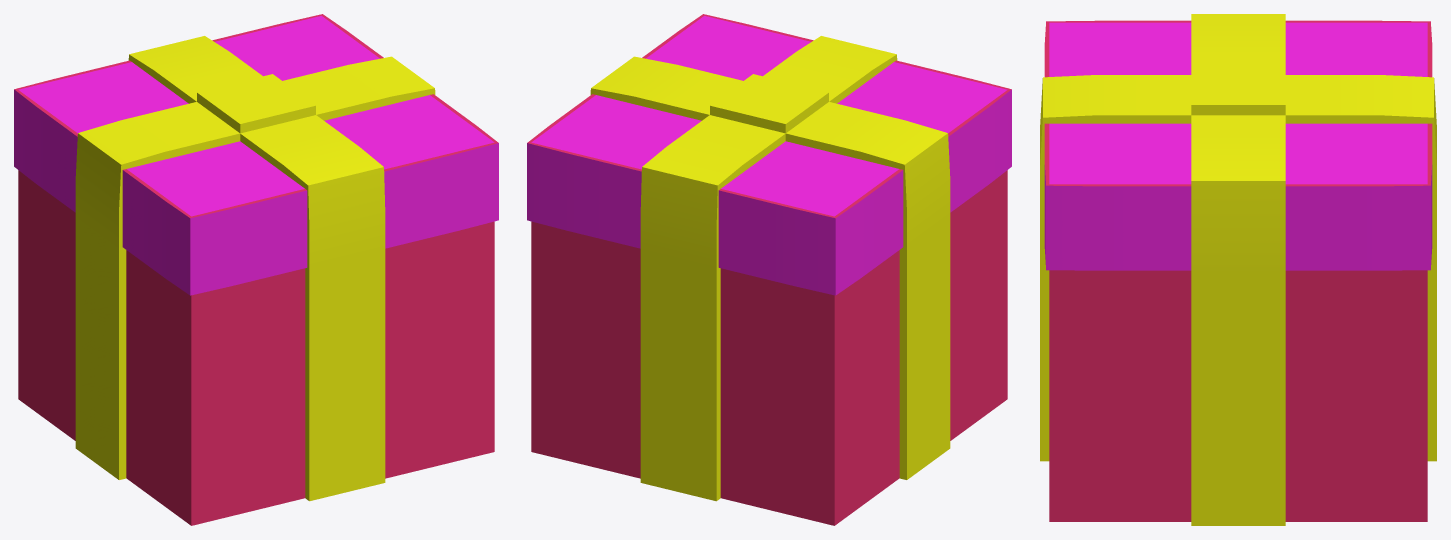
The picture shows the model from 3 angles, left to right: view 1: azimuth 30°, elevation 25°; view 2: azimuth 150°, elevation 25°; view 3: azimuth 270°, elevation 25°; orthographic projection. The views are drawn at different scales.
Visible parts, largest first — view 1: Box001; view 2: Box001; view 3: Box001.
Part boxes in pixels (<box>): Box001: <box>14,14,498,525</box>; Box001: <box>527,14,1011,525</box>; Box001: <box>1040,14,1436,525</box>.
Bounding box in the file's own units: 42.89 × 42.05 × 42.44.
